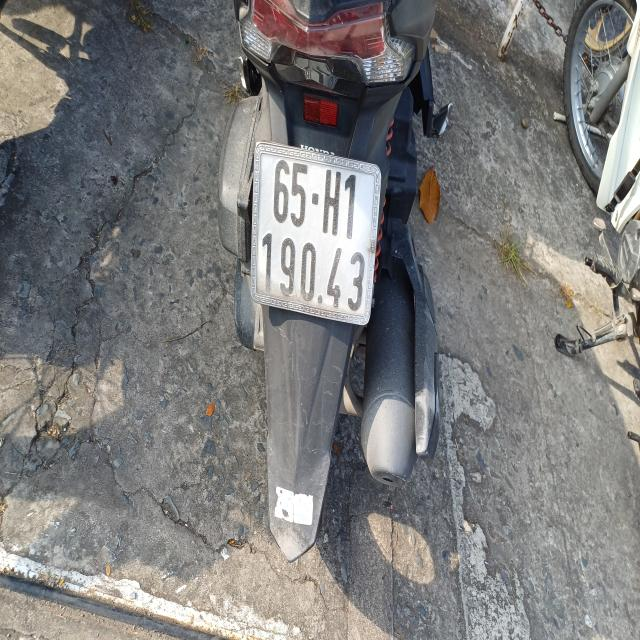0: (301, 237, 317, 311)
1: (262, 226, 274, 292), (346, 175, 357, 240)
3: (348, 252, 364, 315)
4: (328, 247, 342, 306)
5: (291, 160, 309, 230)
6: (272, 158, 289, 222)
9: (278, 232, 296, 301)
H: (322, 166, 343, 239)
